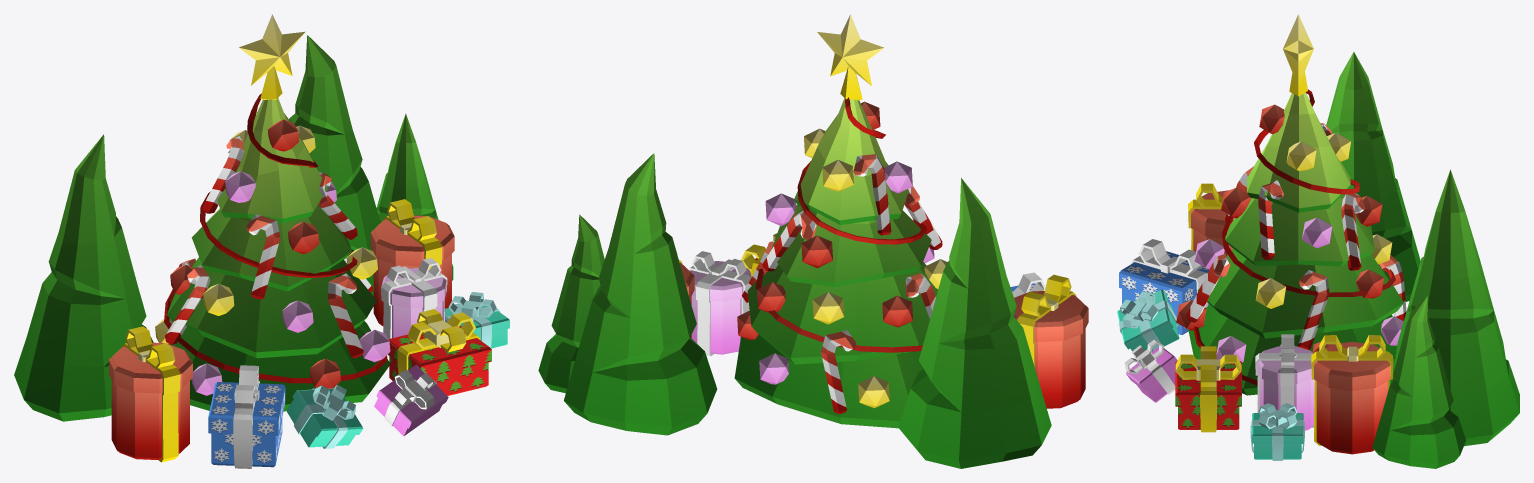
The model's file is presents.obj.
3 views of the same model, side by side, from view 1: azimuth 30°, elevation 25°; view 2: azimuth 150°, elevation 25°; view 3: azimuth 270°, elevation 25° (orthographic). The views are drawn at different scales.
Visible parts, largest first — view 1: Christmas_Tree, Christmas_Tree_060, Christmas_Present_01, Christmas_Tree_2, Christmas_Present_009, Christmas_Present_04, Christmas_Present_008, Christmas_Present_02, Christmas_Present_07, Christmas_Tree_059, Christmas_Present_05, Christmas_Present_06 (+14 smaller); view 2: Christmas_Tree, Christmas_Tree_060, Christmas_Tree_2, Christmas_Present_01, Christmas_Tree_059, Christmas_Present_02, Christmas_Tree_Candy007, Christmas_Tree_Candy004, Christmas_Tree_Candy005, Christmas_Tree_Ball_005, Christmas_Tree_051, Christmas_Tree_Ball_004 (+8 smaller); view 3: Christmas_Tree, Christmas_Tree_2, Christmas_Tree_059, Christmas_Tree_060, Christmas_Present_008, Christmas_Present_04, Christmas_Present_009, Christmas_Present_02, Christmas_Present_07, Christmas_Present_06, Christmas_Present_05, Christmas_Present_01 (+18 smaller).
Part boxes in pixels (bbox=[...]): Christmas_Tree: bbox=[164, 14, 389, 411]; Christmas_Tree_060: bbox=[14, 134, 153, 421]; Christmas_Present_01: bbox=[109, 326, 192, 462]; Christmas_Tree_2: bbox=[289, 35, 380, 295]; Christmas_Present_009: bbox=[208, 365, 285, 468]; Christmas_Present_04: bbox=[388, 309, 491, 395]; Christmas_Present_008: bbox=[370, 199, 454, 325]; Christmas_Present_02: bbox=[381, 258, 447, 355]; Christmas_Present_07: bbox=[286, 384, 363, 448]; Christmas_Tree_059: bbox=[376, 113, 453, 280]; Christmas_Present_05: bbox=[374, 364, 448, 436]; Christmas_Present_06: bbox=[444, 292, 509, 348]; Christmas_Tree: bbox=[734, 14, 937, 428]; Christmas_Tree_060: bbox=[898, 178, 1051, 468]; Christmas_Tree_2: bbox=[564, 153, 717, 435]; Christmas_Present_01: bbox=[1014, 274, 1088, 408]; Christmas_Tree_059: bbox=[538, 214, 604, 393]; Christmas_Present_02: bbox=[688, 251, 751, 355]; Christmas_Tree_Candy007: bbox=[821, 330, 856, 413]; Christmas_Tree_Candy004: bbox=[853, 154, 891, 235]; Christmas_Tree_Candy005: bbox=[762, 210, 816, 271]; Christmas_Tree_Ball_005: bbox=[812, 292, 844, 324]; Christmas_Tree_051: bbox=[801, 235, 832, 268]; Christmas_Tree_Ball_004: bbox=[858, 376, 889, 408]; Christmas_Tree: bbox=[1188, 14, 1403, 395]; Christmas_Tree_2: bbox=[1389, 169, 1519, 446]; Christmas_Tree_059: bbox=[1372, 296, 1465, 468]; Christmas_Tree_060: bbox=[1326, 52, 1420, 301]; Christmas_Present_008: bbox=[1311, 335, 1393, 454]; Christmas_Present_04: bbox=[1175, 346, 1241, 432]; Christmas_Present_009: bbox=[1119, 239, 1209, 334]; Christmas_Present_02: bbox=[1255, 334, 1314, 430]; Christmas_Present_07: bbox=[1117, 289, 1179, 351]; Christmas_Present_06: bbox=[1250, 403, 1304, 460]; Christmas_Present_05: bbox=[1124, 340, 1177, 402]; Christmas_Present_01: bbox=[1188, 183, 1232, 255].
Bounding box in the file's own units: 184 × 143 × 147.
